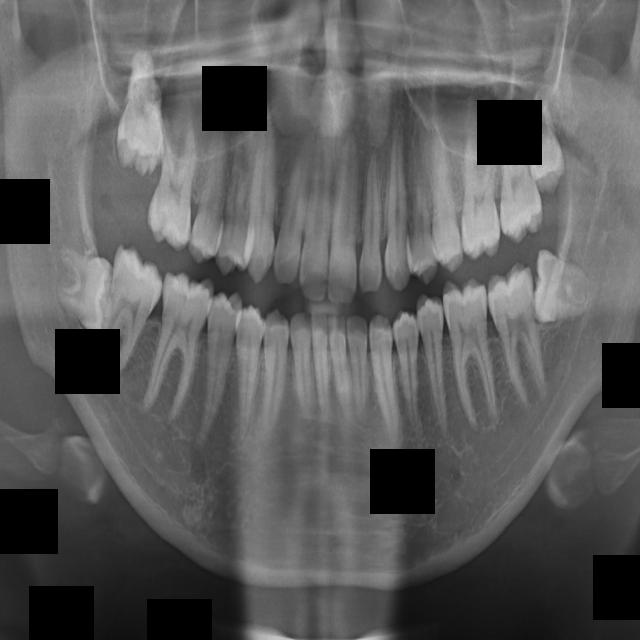AGS Medikal Implant: (359, 148, 383, 298)
AMerOss Implant: (378, 104, 412, 294)
Amalgam filling: (403, 134, 440, 286)
Anthogyr Implant: (415, 106, 466, 274)
Bicon Implant: (460, 122, 503, 260)
BioHorizons Implant: (500, 105, 544, 243)
BioLife Implant: (529, 165, 529, 166)
Biomet 3i Implant: (534, 249, 590, 325)
Blue Sky Bio Implant: (483, 260, 549, 412)
Camlog Implant: (439, 274, 501, 438)
Caries: (115, 47, 165, 178)
Composite filling: (413, 289, 465, 443)
Cowellmedi Implant: (389, 306, 439, 441)
Crown: (367, 312, 401, 444)
DENTSPLY Implant: (345, 315, 370, 418)
Dentatus Implant: (326, 312, 354, 415)
Dentis Implant: (311, 312, 332, 421)
Dentium Implant: (288, 310, 318, 425)
Euroteknika Implant: (262, 308, 289, 442)
Filling: (220, 301, 266, 445)
Frontier Implant: (180, 285, 246, 451)
Hiossen Implant: (143, 110, 205, 253)
Implant: (84, 242, 171, 390)
Implant Direct: (139, 268, 216, 432)
Keystone Dental Implant: (43, 246, 118, 336)
MIS Implant: (186, 122, 237, 266)
Mandible: (214, 120, 253, 279)
Maxilla: (241, 101, 289, 288)
Megagen Implant: (270, 124, 320, 288)
Neodent Implant: (298, 122, 335, 304)
Neoss Implant: (328, 130, 361, 307)
